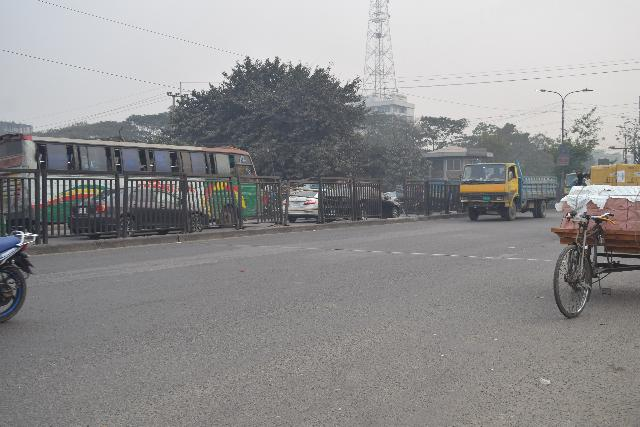bus: (0, 123, 265, 221)
car: (278, 185, 335, 222)
truck: (456, 153, 560, 227)
